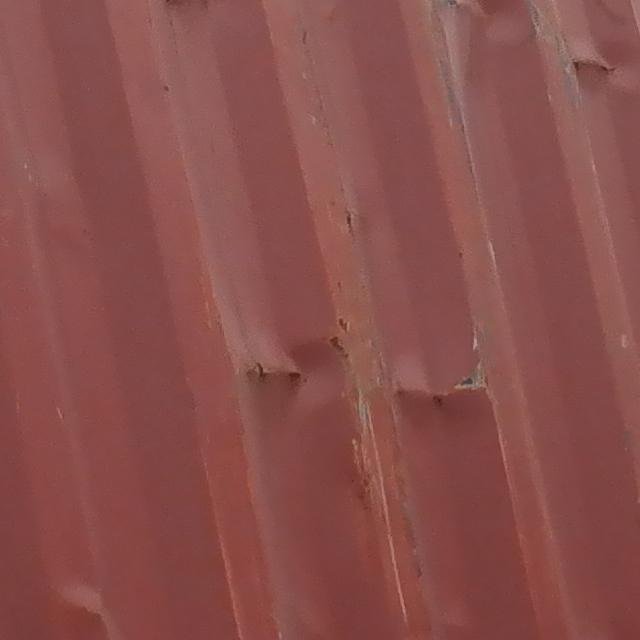dent: (218, 316, 503, 434)
